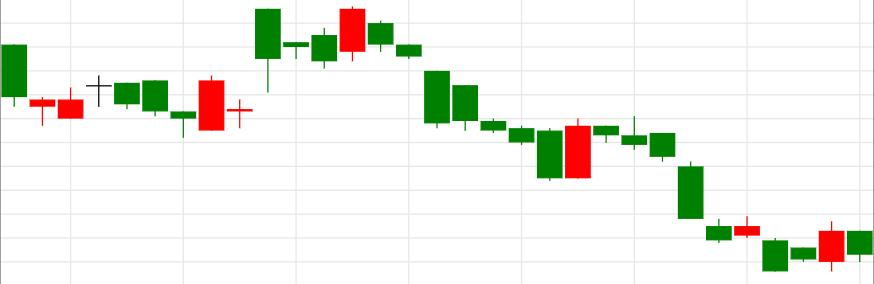bullish_engulfing_rise: (368, 21, 591, 181)
